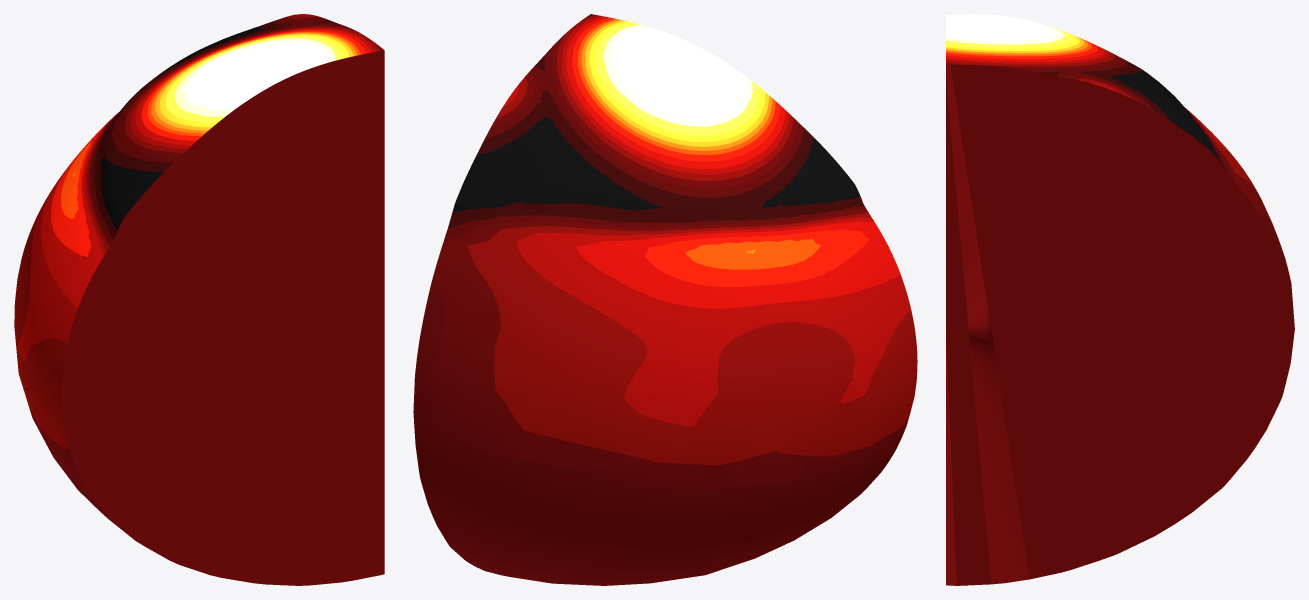
The model's file is dark_orb_tl.glb.
The picture shows the model from 3 angles, left to right: view 1: azimuth 30°, elevation 25°; view 2: azimuth 150°, elevation 25°; view 3: azimuth 270°, elevation 25°; orthographic projection.
Visible parts, largest first — view 1: dark_orb.001; view 2: dark_orb.001; view 3: dark_orb.001.
Boxes of the visible parts, x1=… form: dark_orb.001: x1=14, y1=14, x2=384, y2=585; dark_orb.001: x1=413, y1=14, x2=917, y2=585; dark_orb.001: x1=946, y1=14, x2=1294, y2=585.
Bounding box in the file's own units: 17 × 26.46 × 16.
